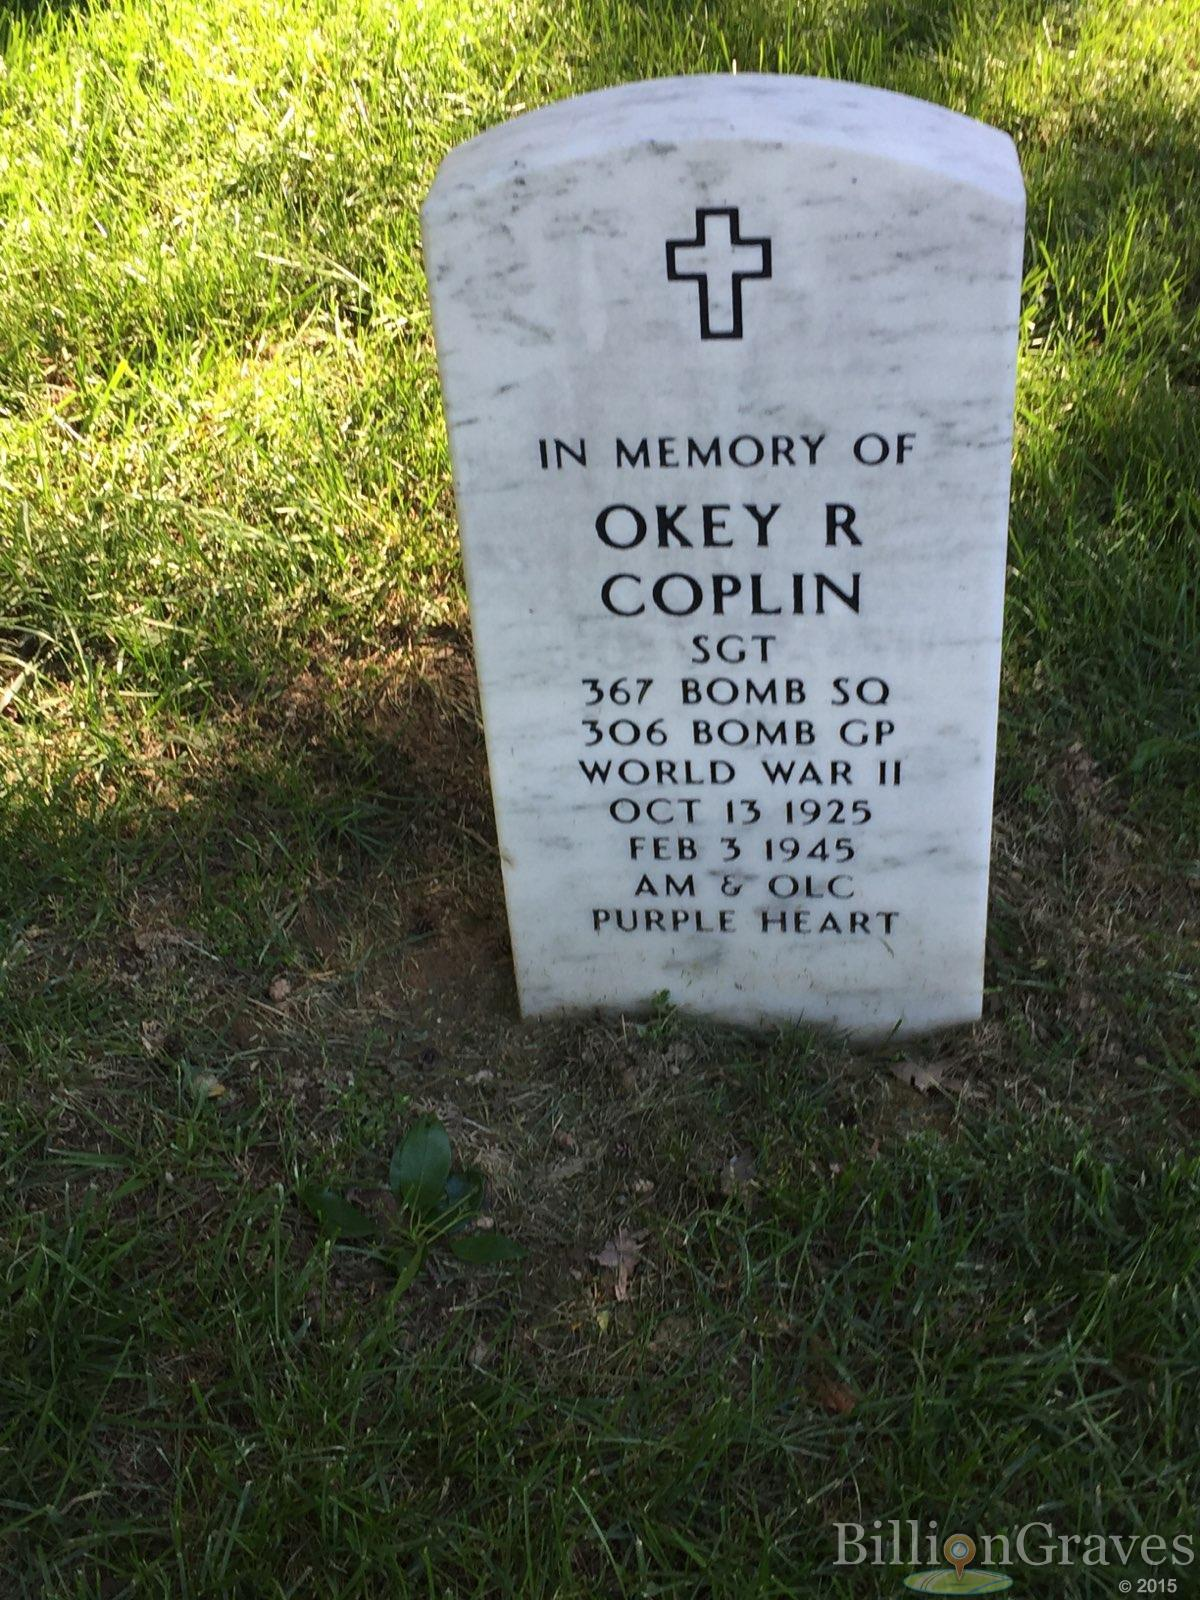military: (376, 38, 1102, 1068)
